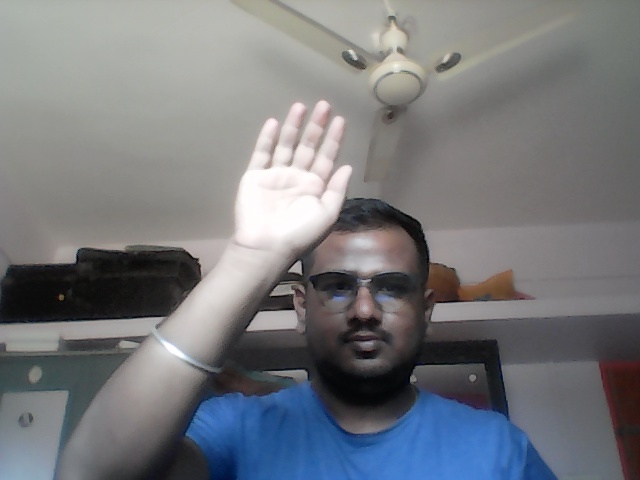Hello: (234, 93, 353, 252)
